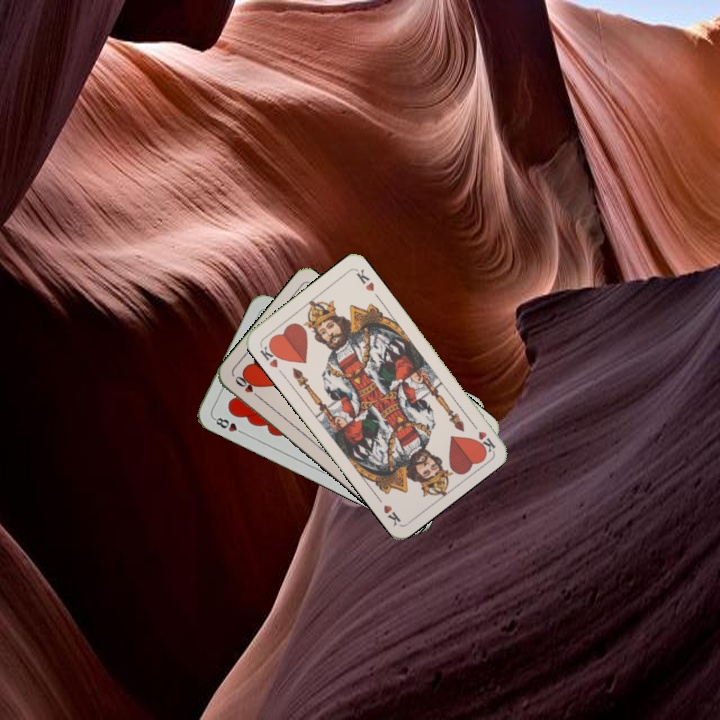H8: (210, 413, 248, 437)
HK: (467, 417, 498, 454), (256, 339, 284, 370)
HO: (231, 372, 264, 402)
